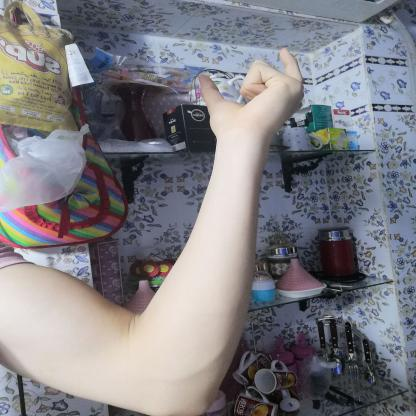NOON: (186, 40, 320, 152)
